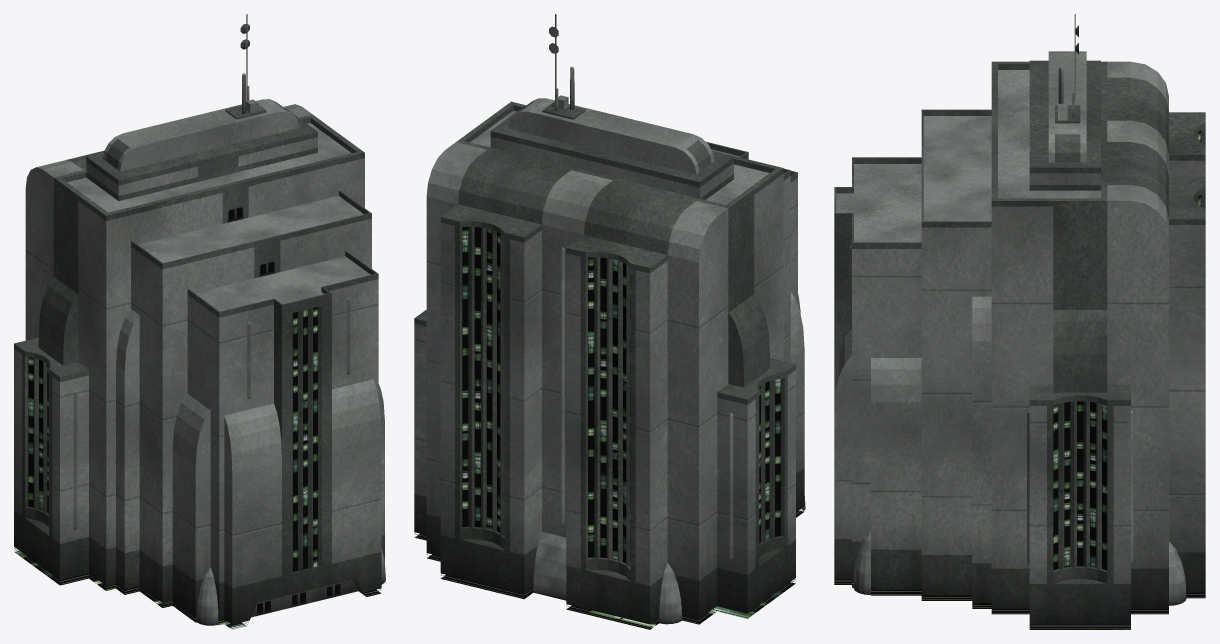
File: thm_corl_imprv_building_s04_l1.fbx
The picture shows the model from 3 angles, left to right: view 1: azimuth 30°, elevation 25°; view 2: azimuth 150°, elevation 25°; view 3: azimuth 270°, elevation 25°; orthographic projection. The views are drawn at different scales.
Visible parts, largest first — view 1: mesh_node; view 2: mesh_node; view 3: mesh_node.
Boxes of the visible parts, box(x1,y1,x2,y2) form: mesh_node: box(14, 14, 385, 629); mesh_node: box(414, 14, 805, 629); mesh_node: box(834, 14, 1205, 629).
Bounding box in the file's own units: 63.59 × 97 × 58.59.
